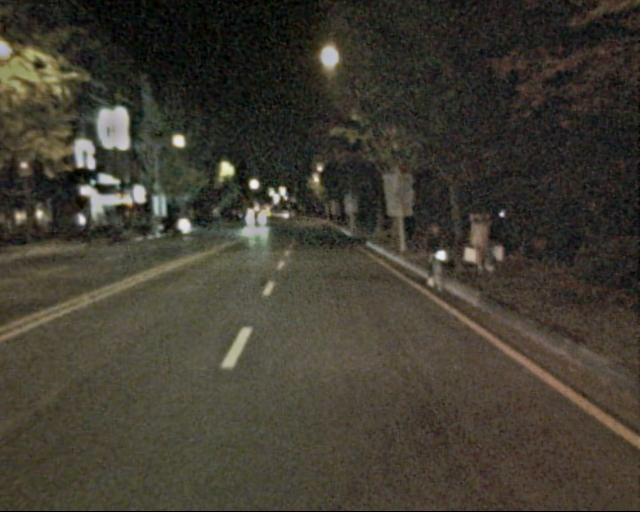person: (423, 222, 454, 293), (465, 213, 494, 278), (480, 209, 507, 275)
